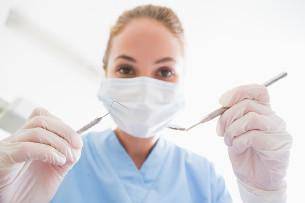OK: (97, 49, 192, 137)
